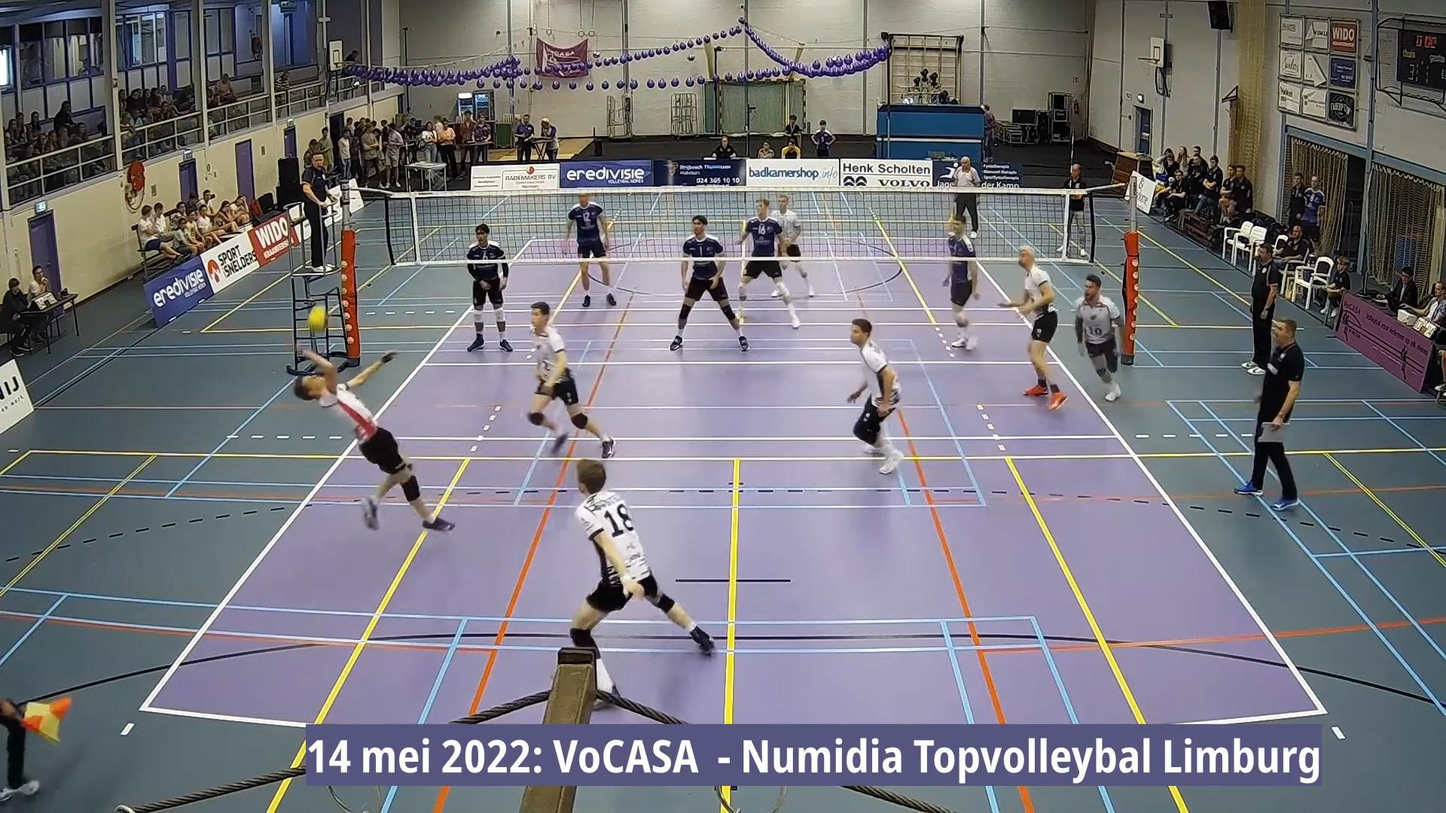difesa: (286, 346, 460, 540)
